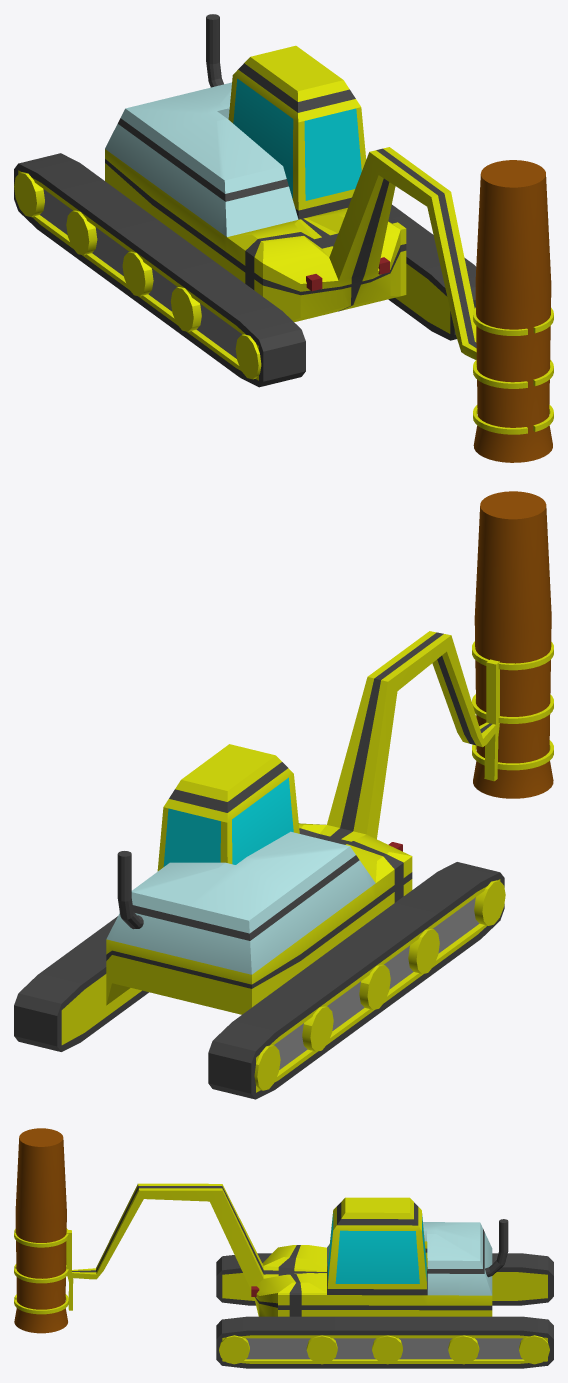
The model's file is assembleuse.fbx.
3 renders of one model, top to bottom at view 1: azimuth 30°, elevation 25°; view 2: azimuth 150°, elevation 25°; view 3: azimuth 270°, elevation 25°, orthographic. The views are drawn at different scales.
Parts seen in each view (by area): view 1: Cube.002; view 2: Cube.002; view 3: Cube.002.
Part boxes in pixels (left/top/right/bottom): Cube.002: left=14, top=14, right=553, bottom=462; Cube.002: left=14, top=491, right=553, bottom=1099; Cube.002: left=14, top=1128, right=553, bottom=1368.
Bounding box in the file's own units: 175 × 200 × 504.
